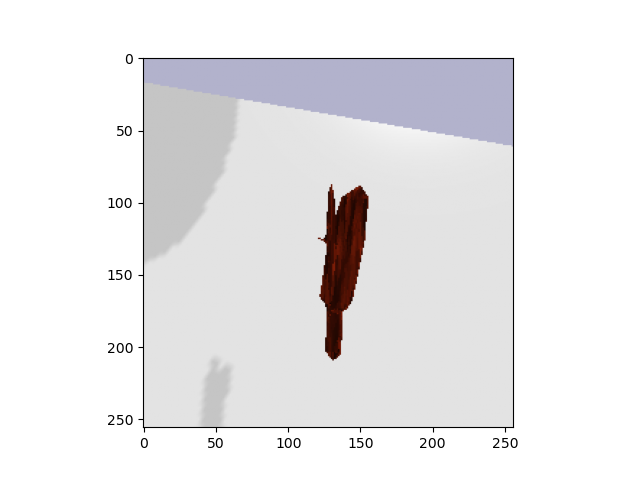v249b387_107: (308, 182, 376, 366)
